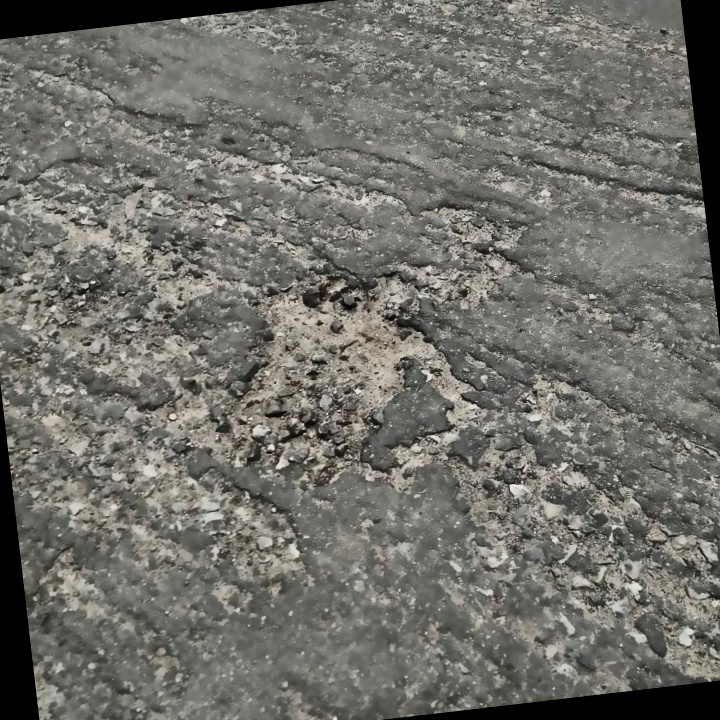pothole: (214, 254, 460, 482)
